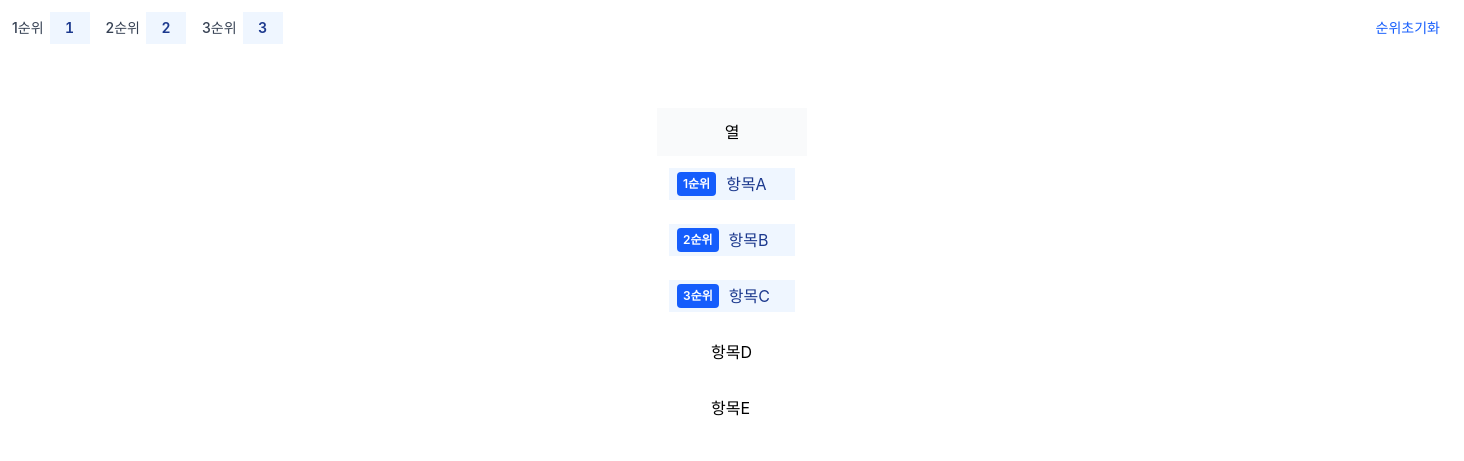
Test: RankingQuestion — 비그룹 경로 › 순위가 다 찼는데 다른 보기를 누르면 바꾸지 않고 안내를 띄운다
Click the button "항목D". click: click(714, 352)
box: [677,340,752,364]
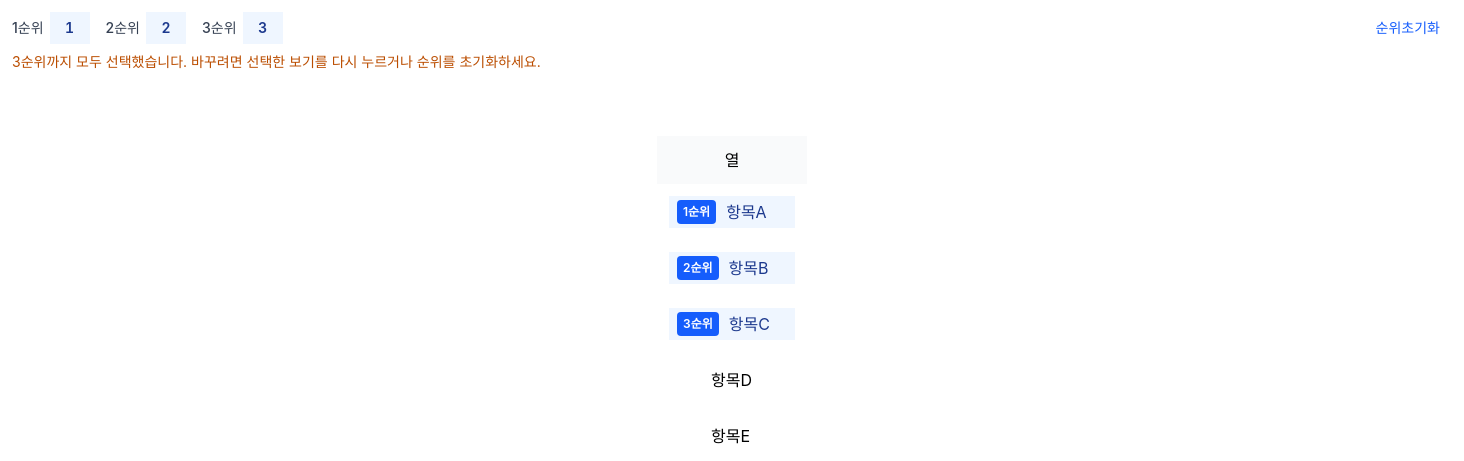
Expected: the message shows "3순위까지 모두 선택했습니다", [12,53,541,70]
